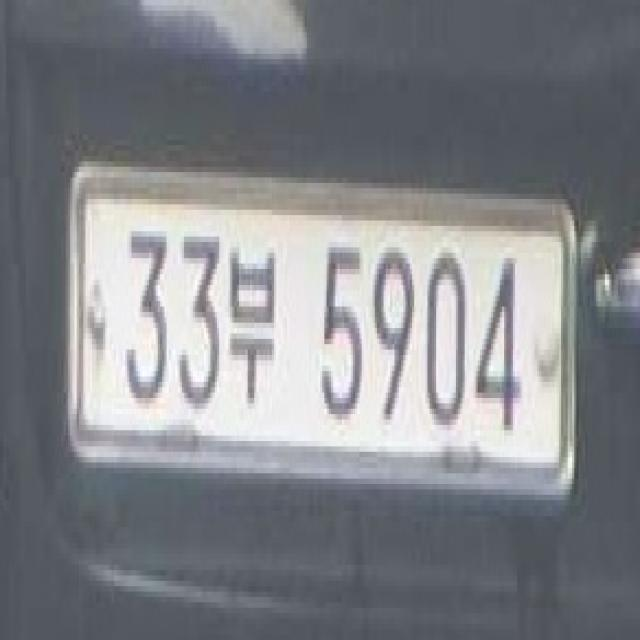0: (425, 248, 465, 430)
3: (178, 221, 222, 414), (125, 220, 169, 408)
4: (471, 242, 524, 430)
5: (320, 236, 366, 419)
9: (370, 242, 412, 425)
bu: (226, 247, 278, 403)
license_plate: (70, 162, 581, 516)
